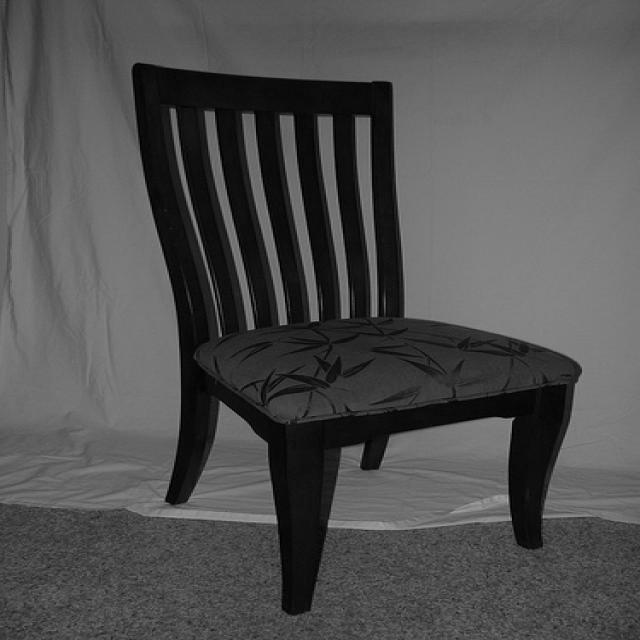chair: (124, 62, 578, 618)
